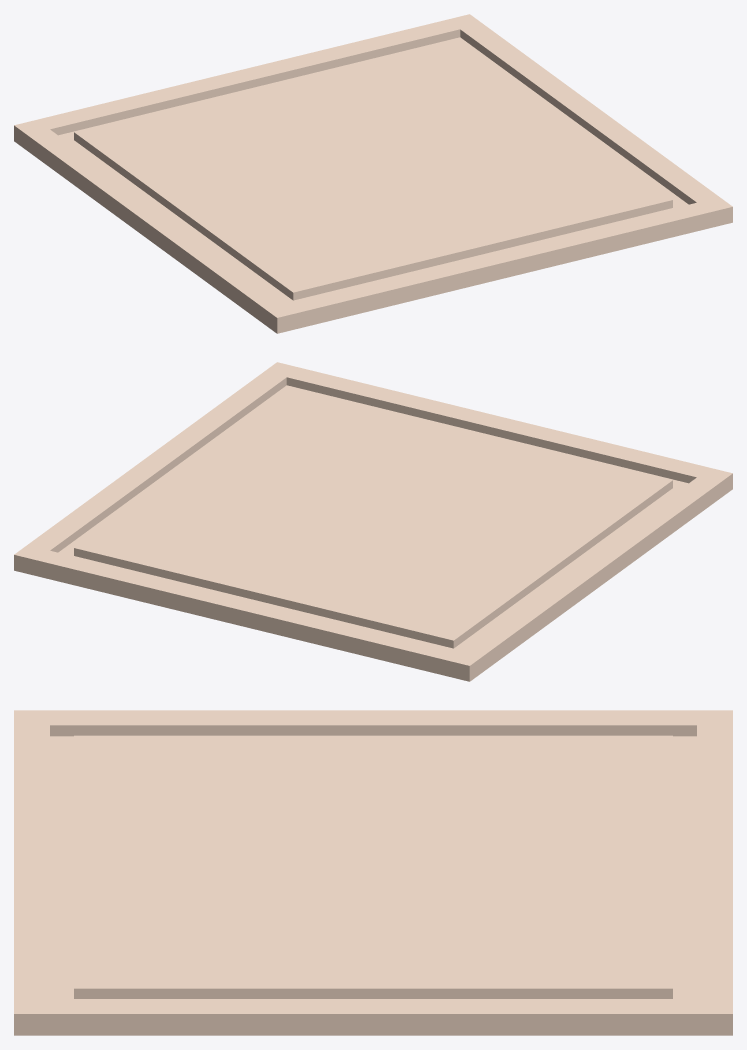
The model's file is dizhuan3.obj.
3 renders of one model, top to bottom at view 1: azimuth 30°, elevation 25°; view 2: azimuth 150°, elevation 25°; view 3: azimuth 270°, elevation 25°, orthographic. The views are drawn at different scales.
Size of the model in its own units: 3 by 0.1 by 3.
